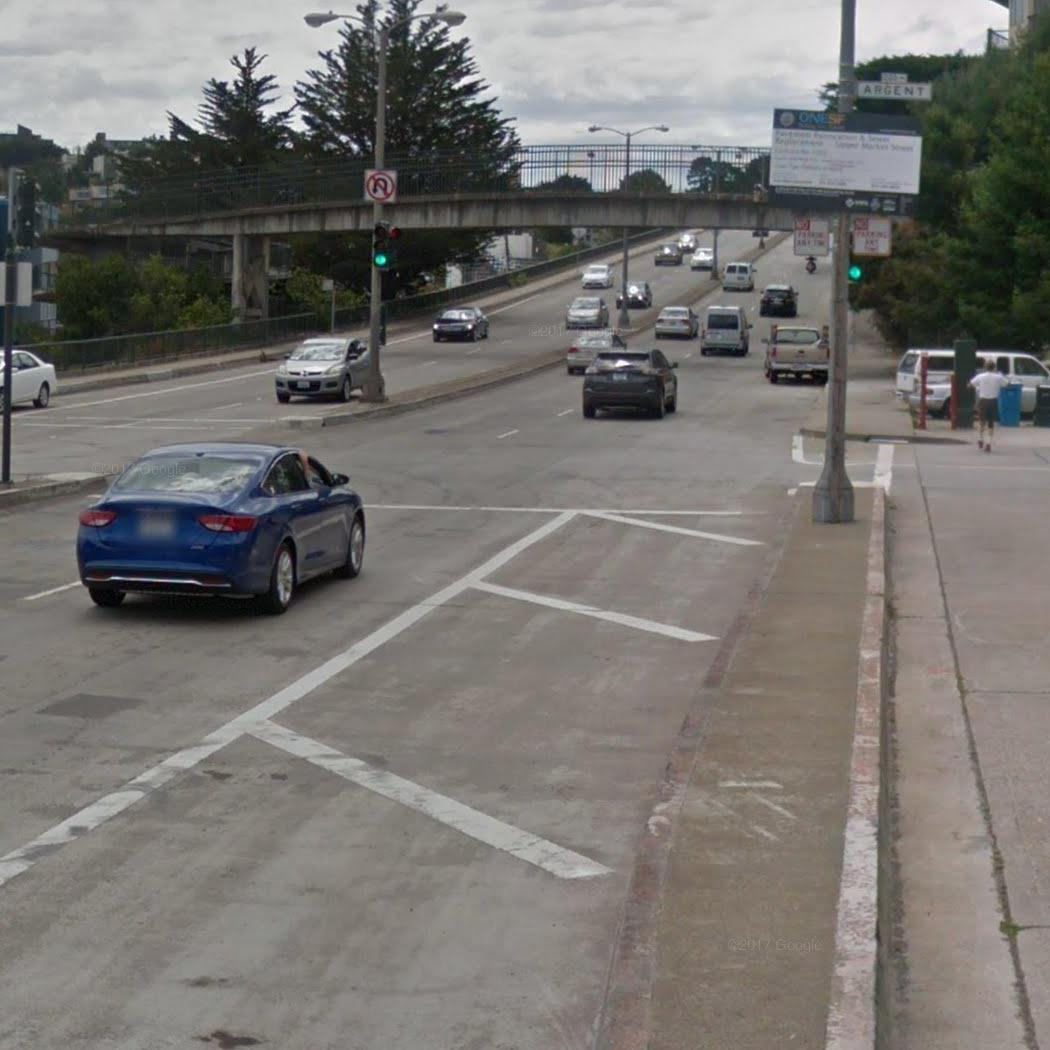No Parking Anytime: (852, 214, 894, 256), (795, 220, 832, 254)
